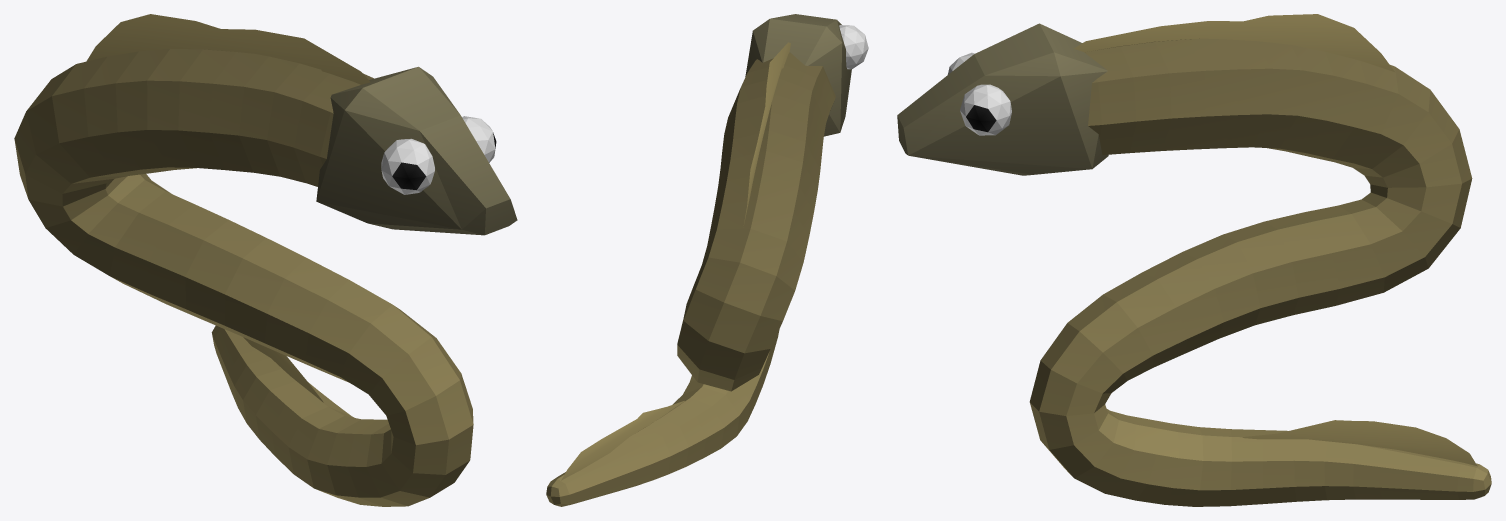
File: eel.glb
The picture shows the model from 3 angles, left to right: view 1: azimuth 30°, elevation 25°; view 2: azimuth 150°, elevation 25°; view 3: azimuth 270°, elevation 25°; orthographic projection. The views are drawn at different scales.
Parts seen in each view (by area): view 1: eel_merged; view 2: eel_merged; view 3: eel_merged.
Boxes of the visible parts, x1,y1,x2,y2 form: eel_merged: [14, 14, 517, 506]; eel_merged: [546, 14, 868, 506]; eel_merged: [897, 14, 1491, 506].
Size of the model in its own units: 1.6 by 2.75 by 3.29.
3 materials, 3 textured.
